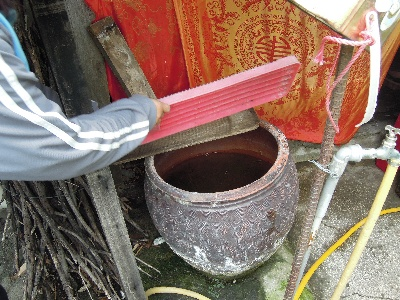bowl: (142, 116, 302, 284)
